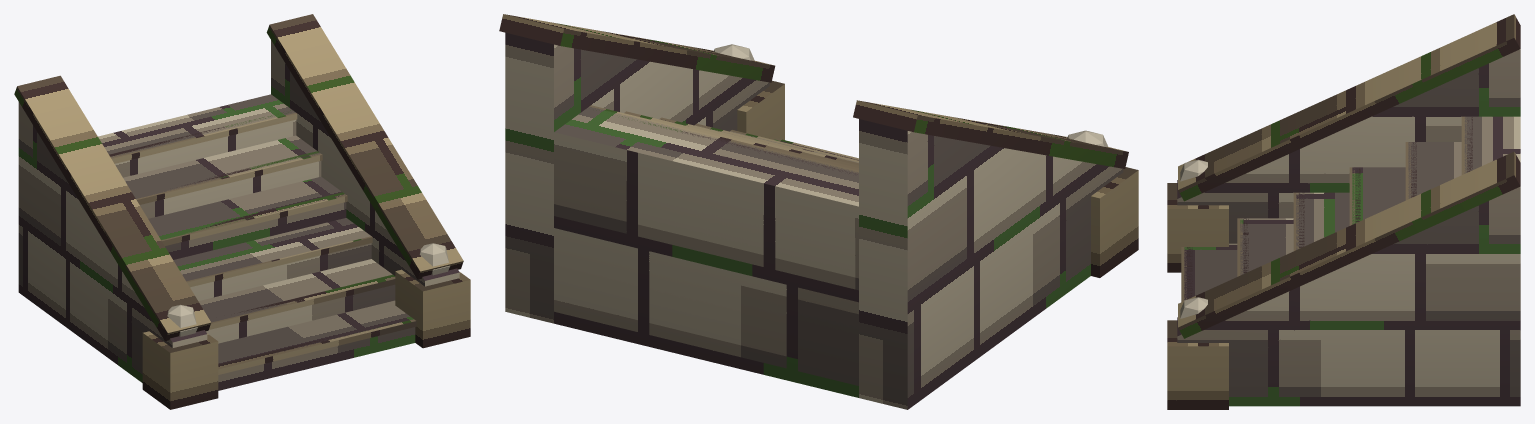
The model's file is scene_stair_7.glb.
The picture shows the model from 3 angles, left to right: view 1: azimuth 30°, elevation 25°; view 2: azimuth 150°, elevation 25°; view 3: azimuth 270°, elevation 25°; orthographic projection. The views are drawn at different scales.
Parts seen in each view (by area): view 1: scene_stair_7; view 2: scene_stair_7; view 3: scene_stair_7.
Boxes of the visible parts, <box> form: scene_stair_7: <box>14,14,470,409</box>; scene_stair_7: <box>499,14,1138,409</box>; scene_stair_7: <box>1167,14,1520,409</box>.
Bounding box in the file's own units: 2.76 × 1.84 × 2.52.
Materials: 2 (1 with a texture image).
